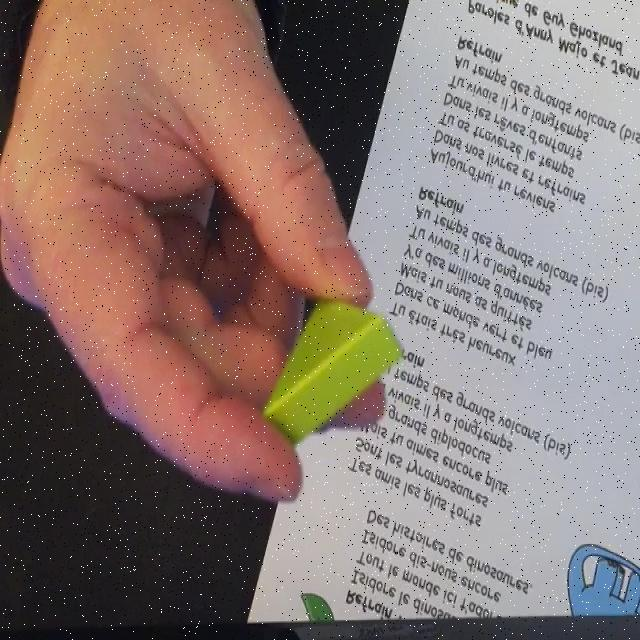triangle: (261, 292, 404, 447)
